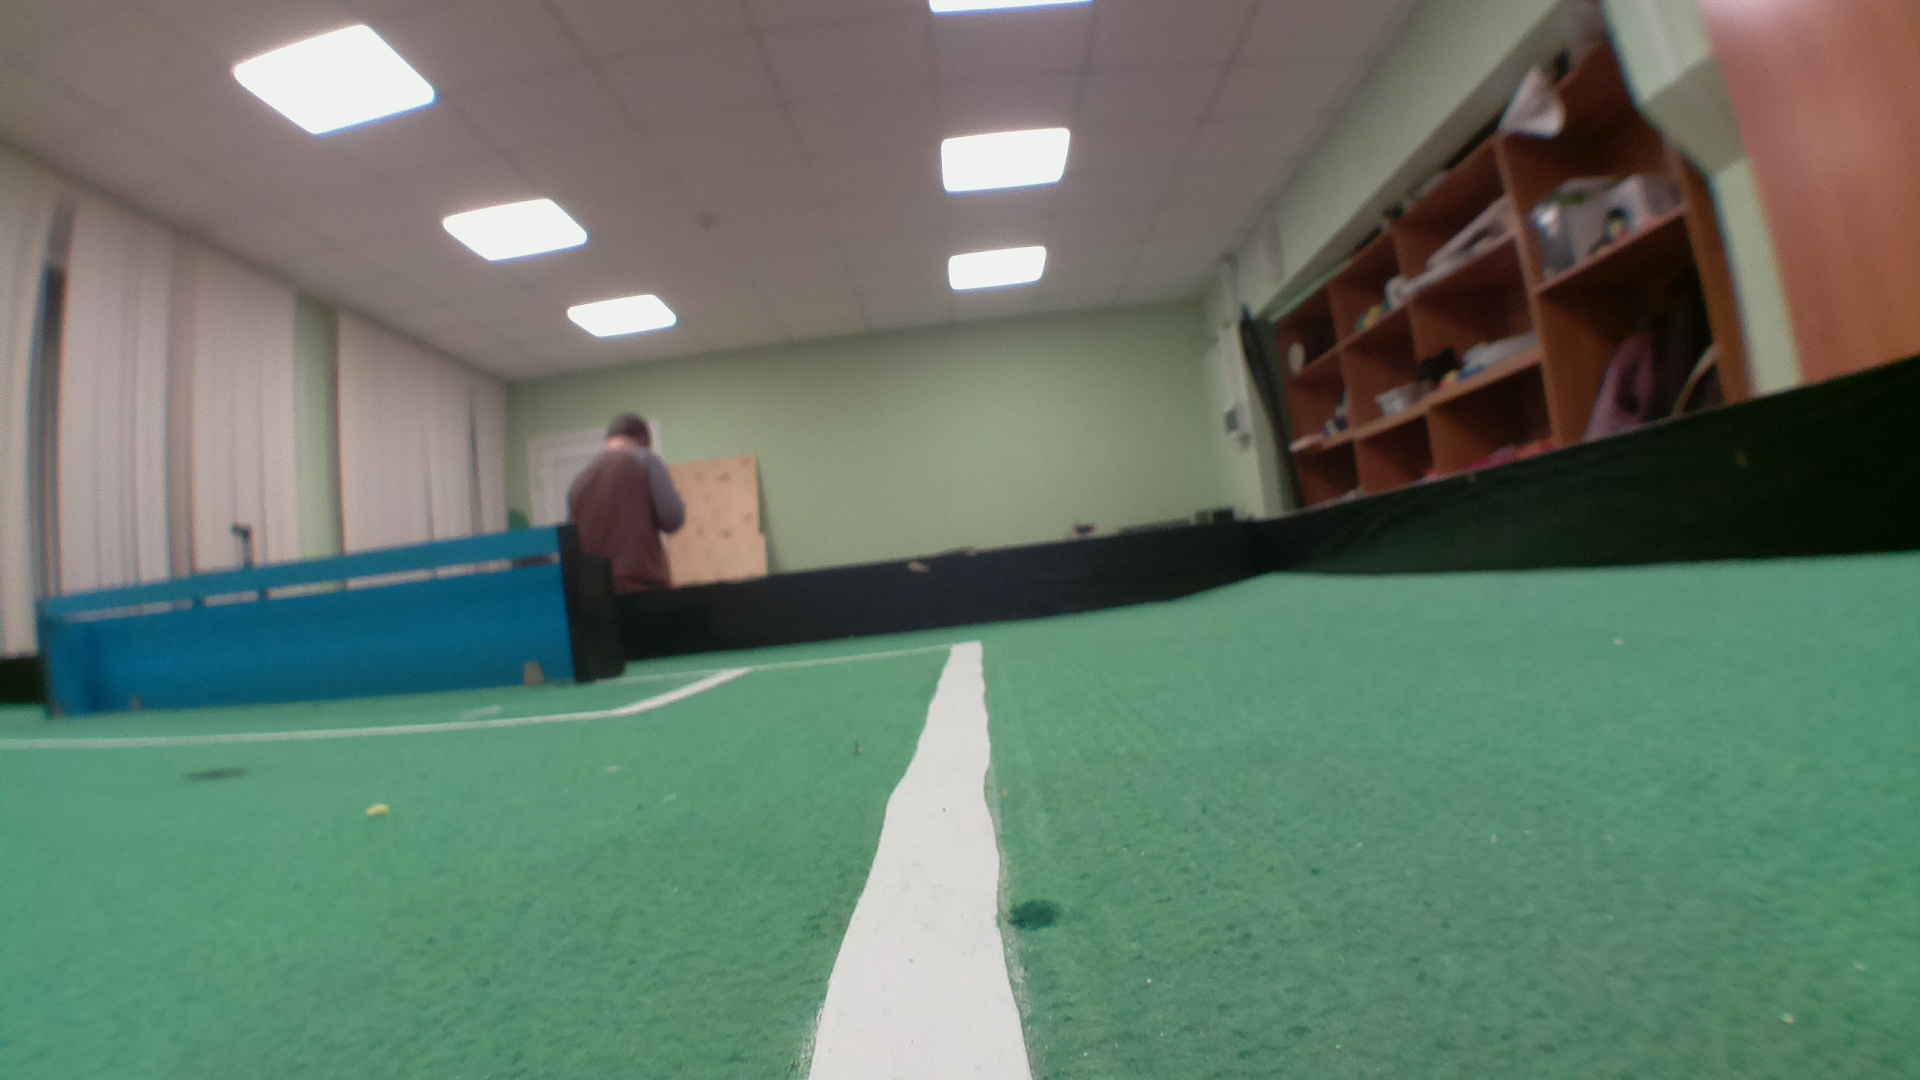BlueGoal: (46, 527, 560, 716)
